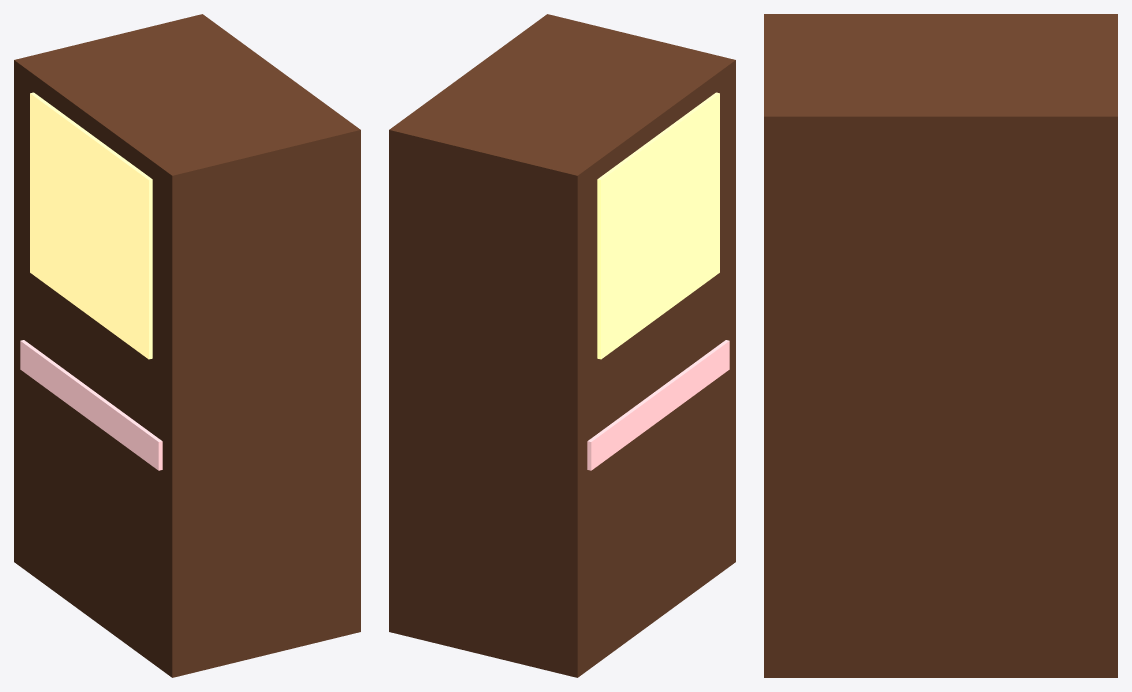
Rendered from jukebox.glb.
3 views of the same model, side by side, from view 1: azimuth 30°, elevation 25°; view 2: azimuth 150°, elevation 25°; view 3: azimuth 270°, elevation 25° (orthographic). The views are drawn at different scales.
Parts seen in each view (by area): view 1: Box1, Box2, Box3; view 2: Box1, Box2, Box3; view 3: Box1.
Part boxes in pixels (x1=…): Box1: x1=14, y1=14, x2=360, y2=677; Box2: x1=30, y1=92, x2=152, y2=359; Box3: x1=20, y1=340, x2=162, y2=470; Box1: x1=389, y1=14, x2=735, y2=677; Box2: x1=597, y1=92, x2=719, y2=359; Box3: x1=587, y1=340, x2=729, y2=470; Box1: x1=764, y1=14, x2=1117, y2=677.
Bounding box in the file's own units: 0.561 × 1.4 × 0.8.
